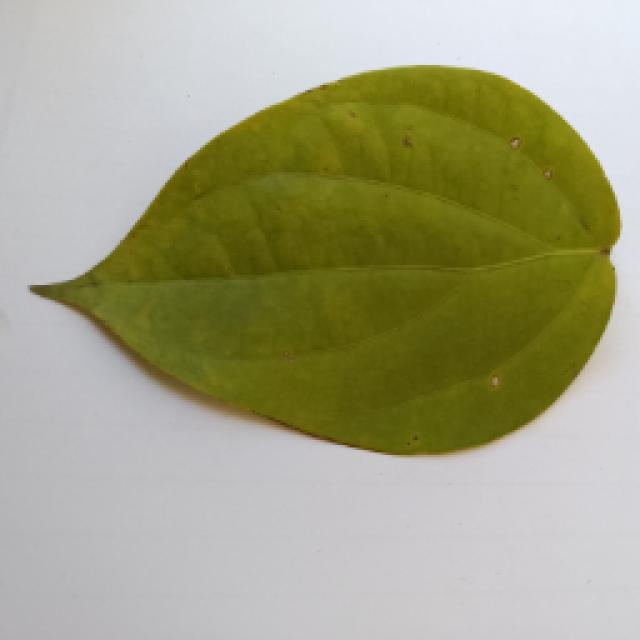slow-decline: (27, 68, 615, 450)
